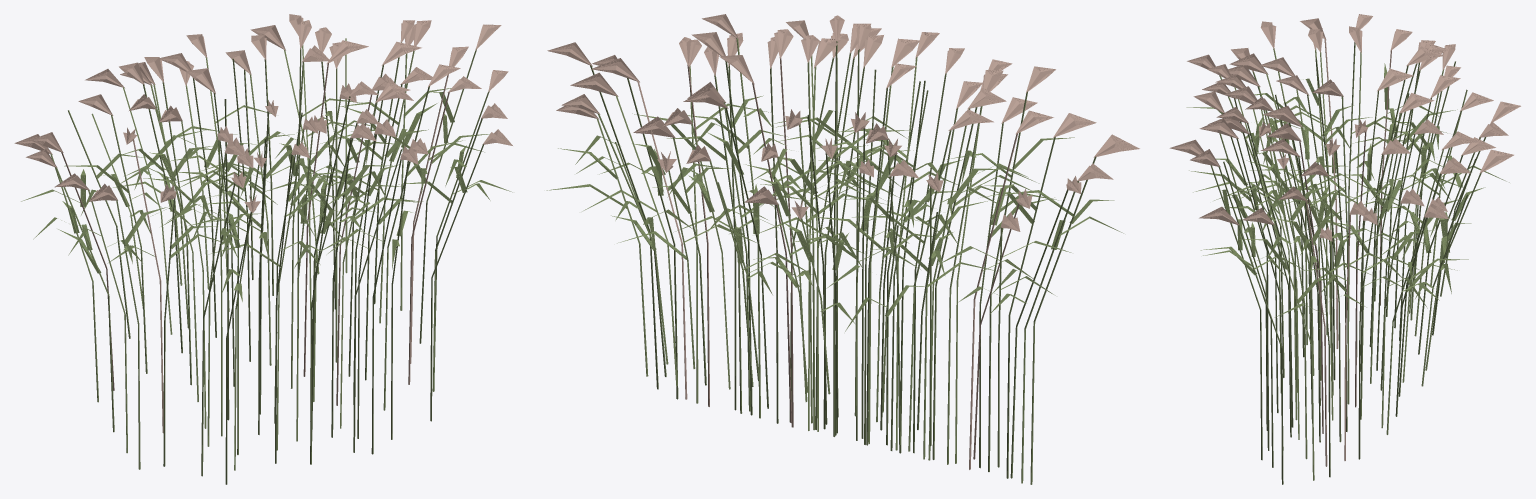
File: reed_bed.glb
3 renders of one model, left to right at view 1: azimuth 30°, elevation 25°; view 2: azimuth 150°, elevation 25°; view 3: azimuth 270°, elevation 25°, orthographic. The views are drawn at different scales.
Parts seen in each view (by area): view 1: reed_bed_lod0; view 2: reed_bed_lod0; view 3: reed_bed_lod0.
Boxes of the visible parts, left/top/right/bottom form: reed_bed_lod0: left=14, top=14, right=512, bottom=484; reed_bed_lod0: left=546, top=14, right=1139, bottom=484; reed_bed_lod0: left=1169, top=14, right=1520, bottom=484.
Size of what is drawn, in the model's own units: 4.83 by 3.73 by 3.23.
